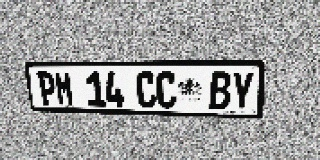1: (85, 72, 106, 107)
4: (104, 72, 124, 107)
B: (209, 72, 231, 110)
C: (156, 72, 176, 109), (136, 72, 156, 108)
M: (54, 72, 75, 106)
P: (36, 72, 58, 106)
Y: (230, 72, 254, 111)
